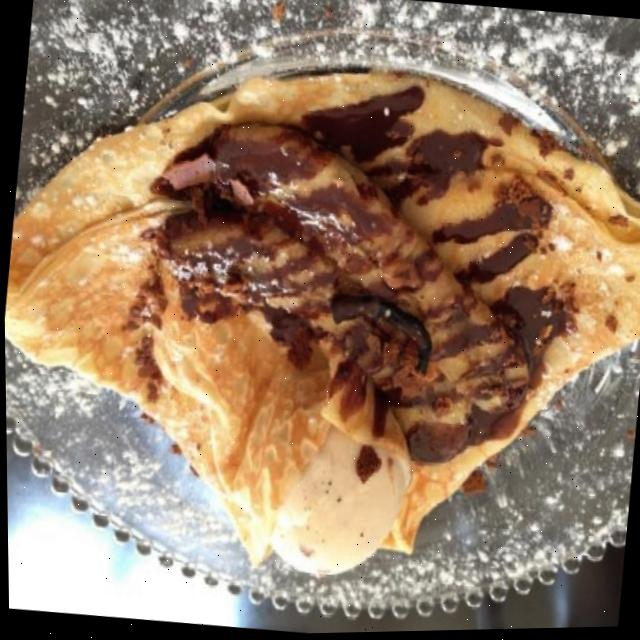蛋糕甜品: (0, 22, 640, 603)
